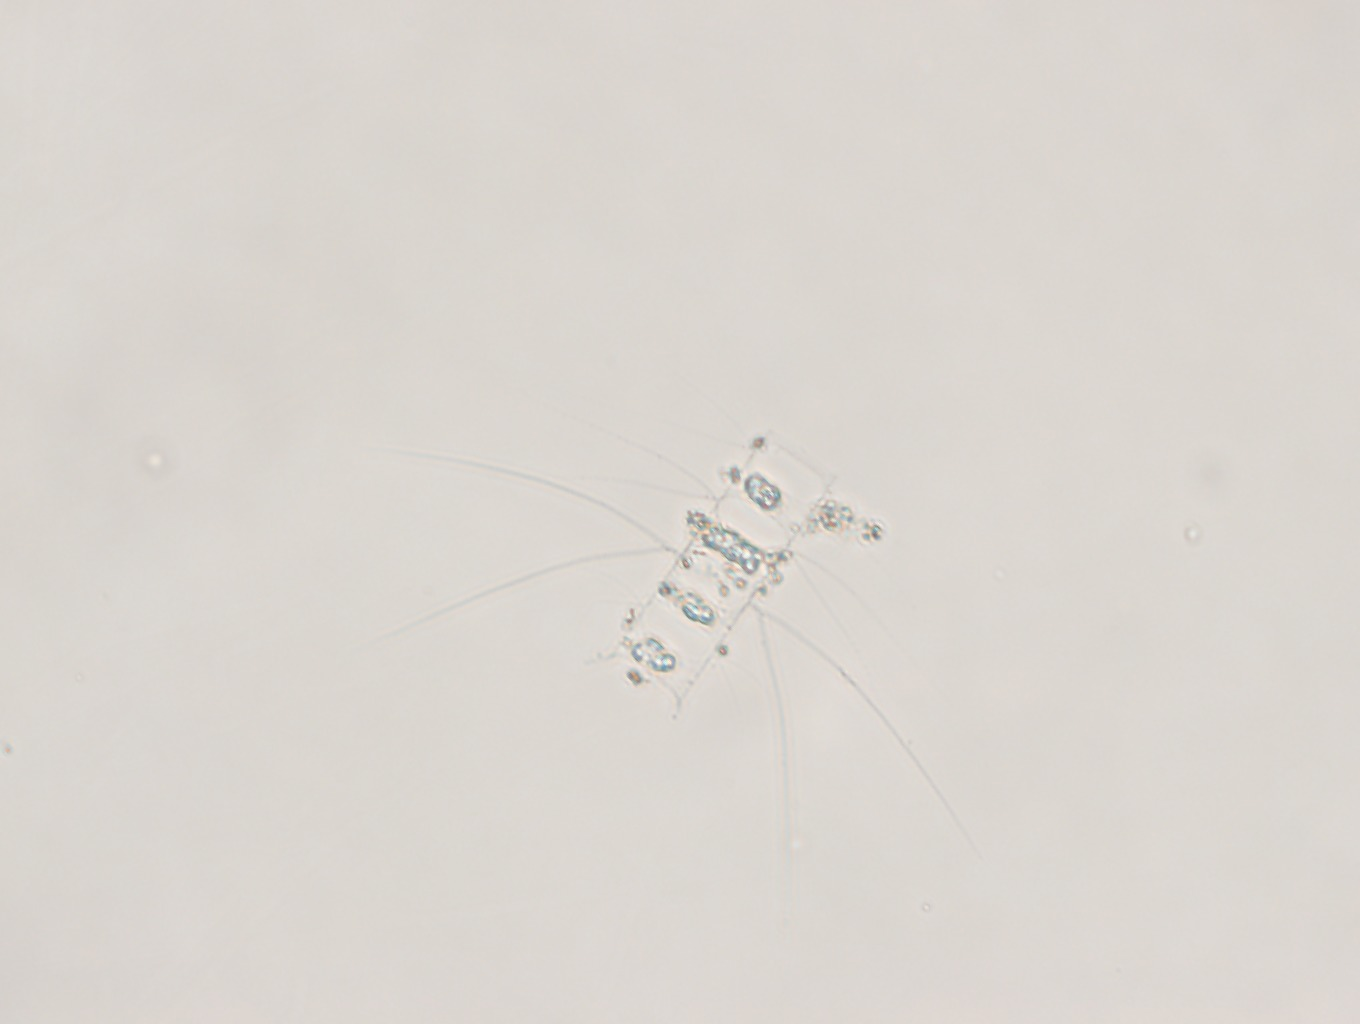chaetoceros: (393, 418, 989, 873)
